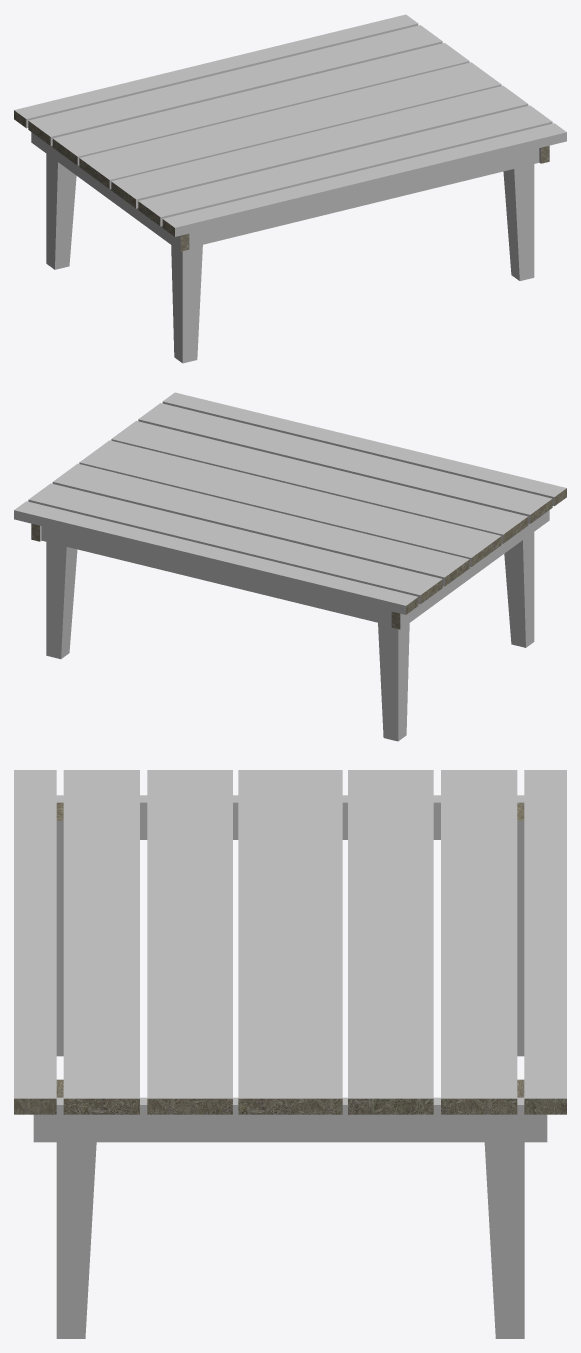
The model's file is CoffeTableB.fbx.
The picture shows the model from 3 angles, top to bottom: view 1: azimuth 30°, elevation 25°; view 2: azimuth 150°, elevation 25°; view 3: azimuth 270°, elevation 25°; orthographic projection. The views are drawn at different scales.
Parts seen in each view (by area): view 1: CoffeTableB; view 2: CoffeTableB; view 3: CoffeTableB.
Part boxes in pixels (bbox=[...]): CoffeTableB: bbox=[14, 14, 566, 363]; CoffeTableB: bbox=[14, 392, 566, 741]; CoffeTableB: bbox=[14, 770, 566, 1338].
Bounding box in the file's own units: 141 × 51.56 × 101.
